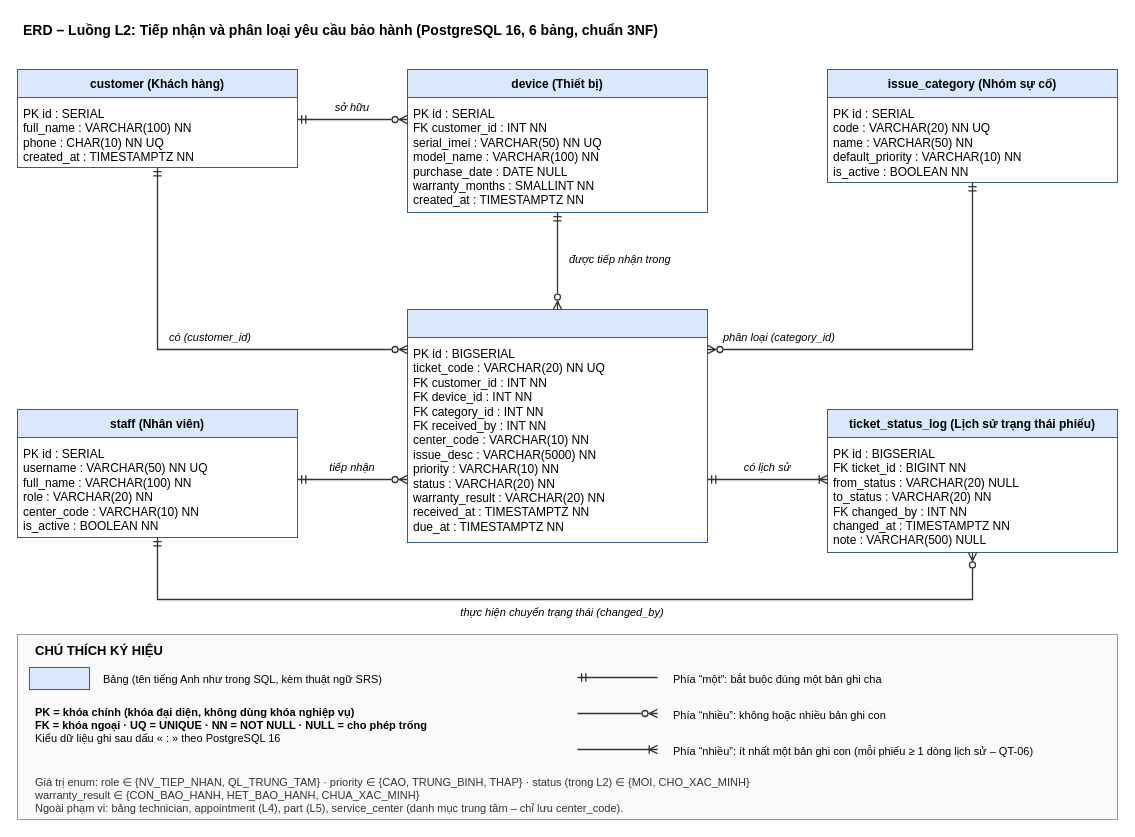
The diagram is 1135 pixels wide and 837 high, and some of its shapes have lost their labels. Here are the shapes that lost their labels. From the top down, the box of each, then its label:
(406, 308, 708, 338): ticket (Phiếu bảo hành)
(28, 666, 90, 690): bảng
